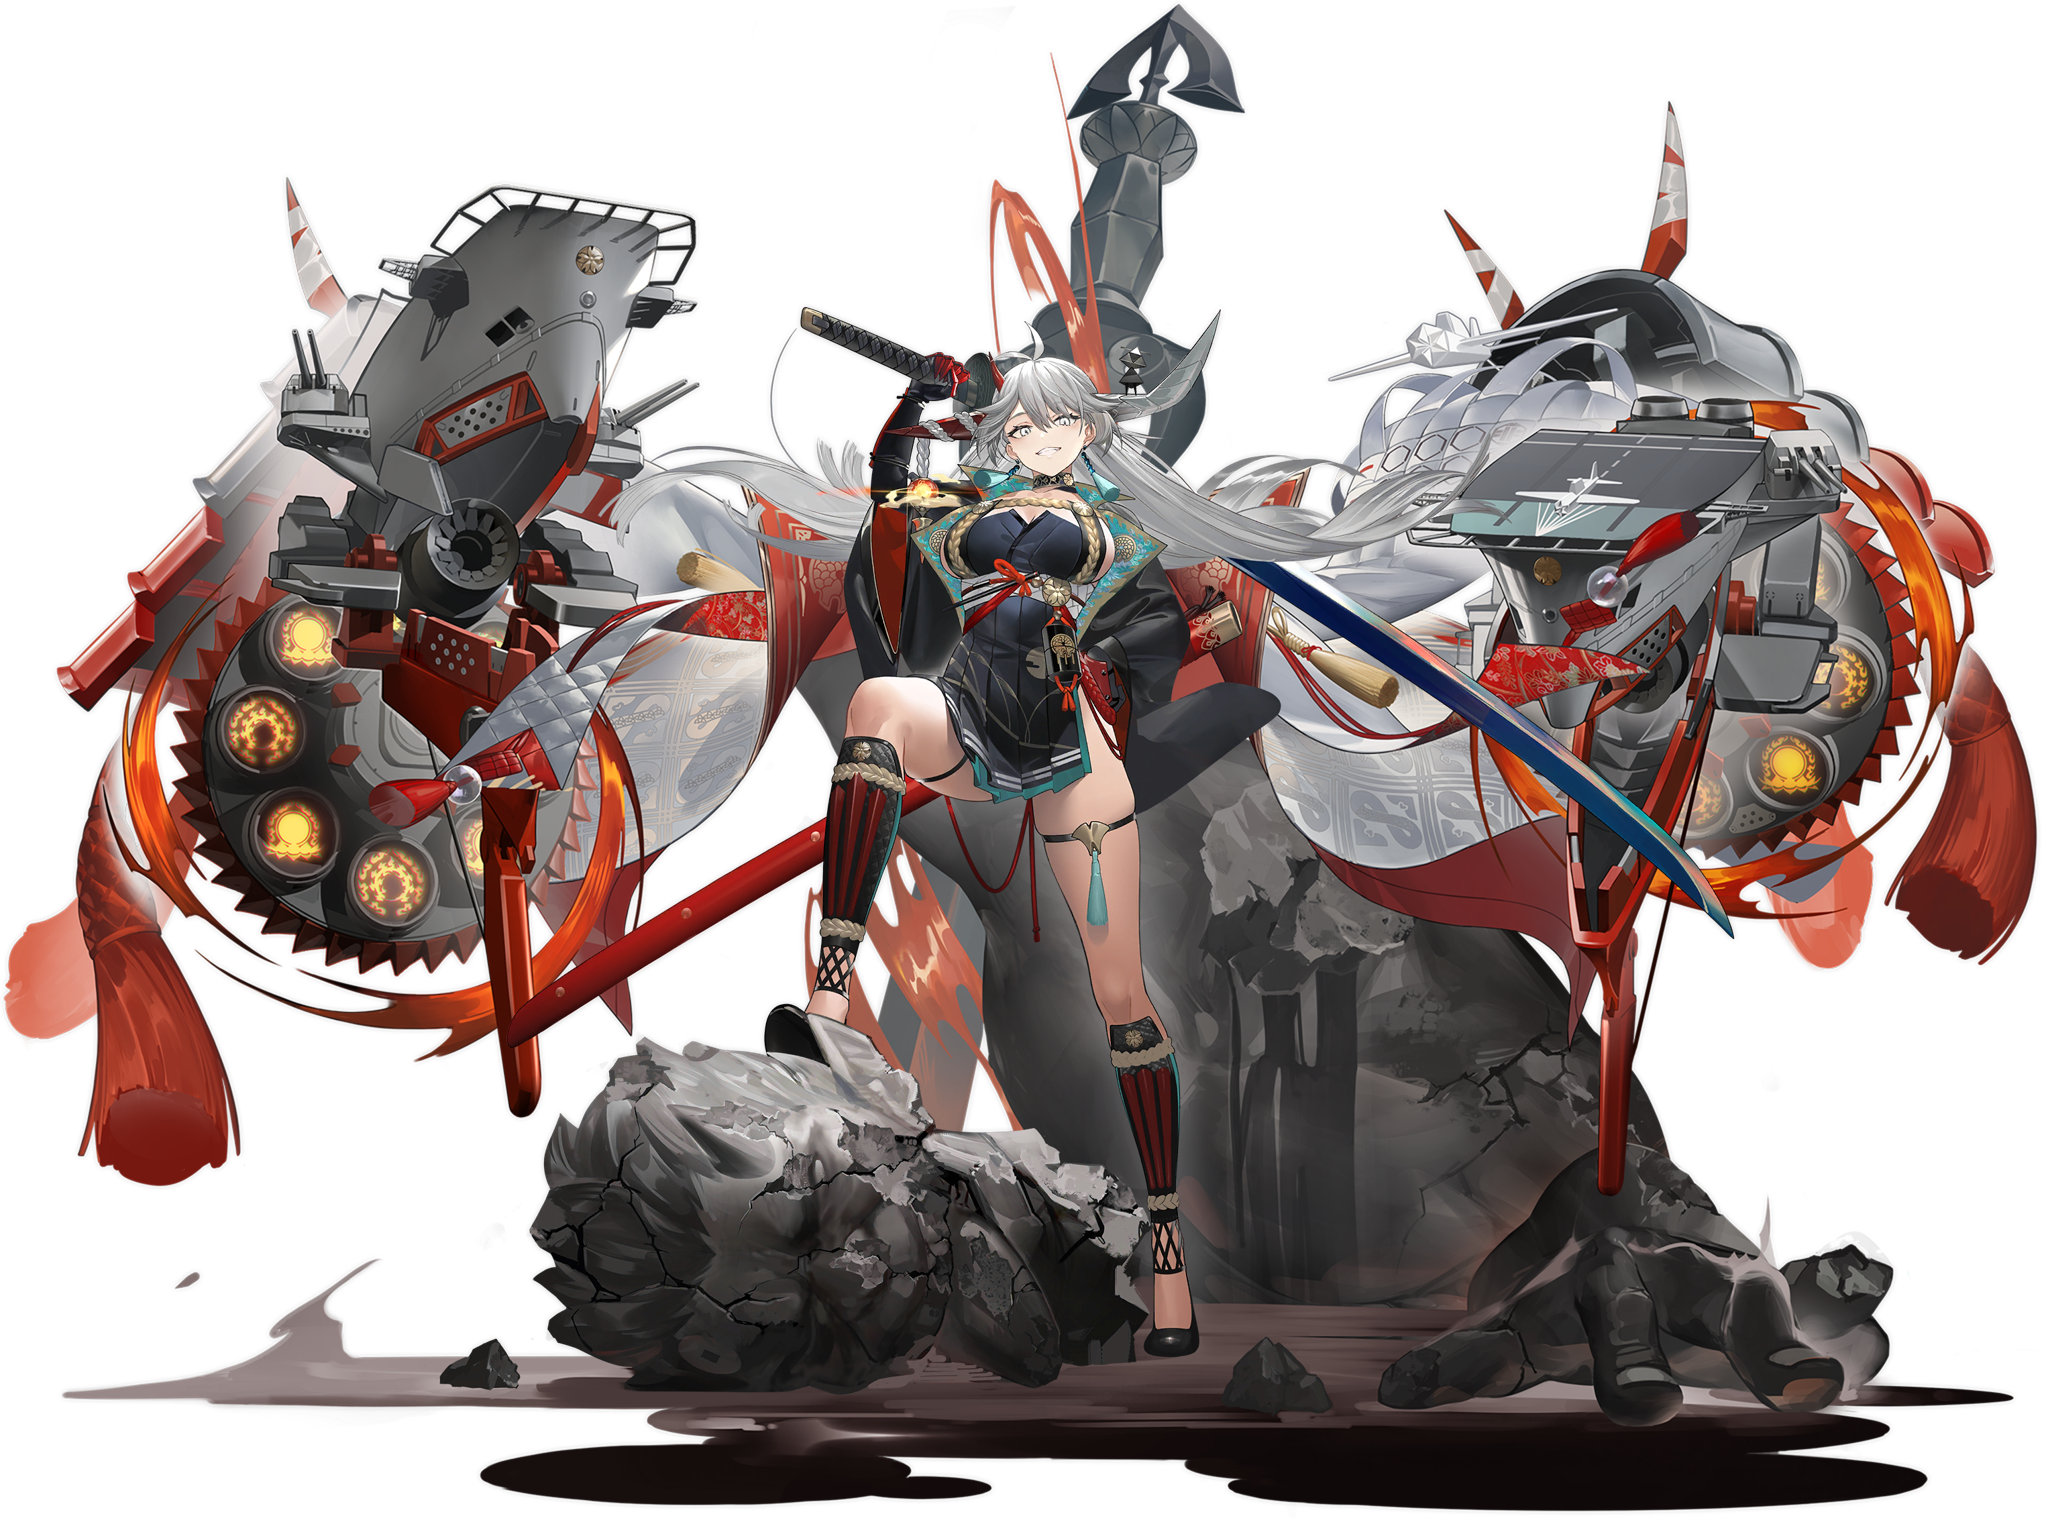person: (736, 349, 1233, 1151)
